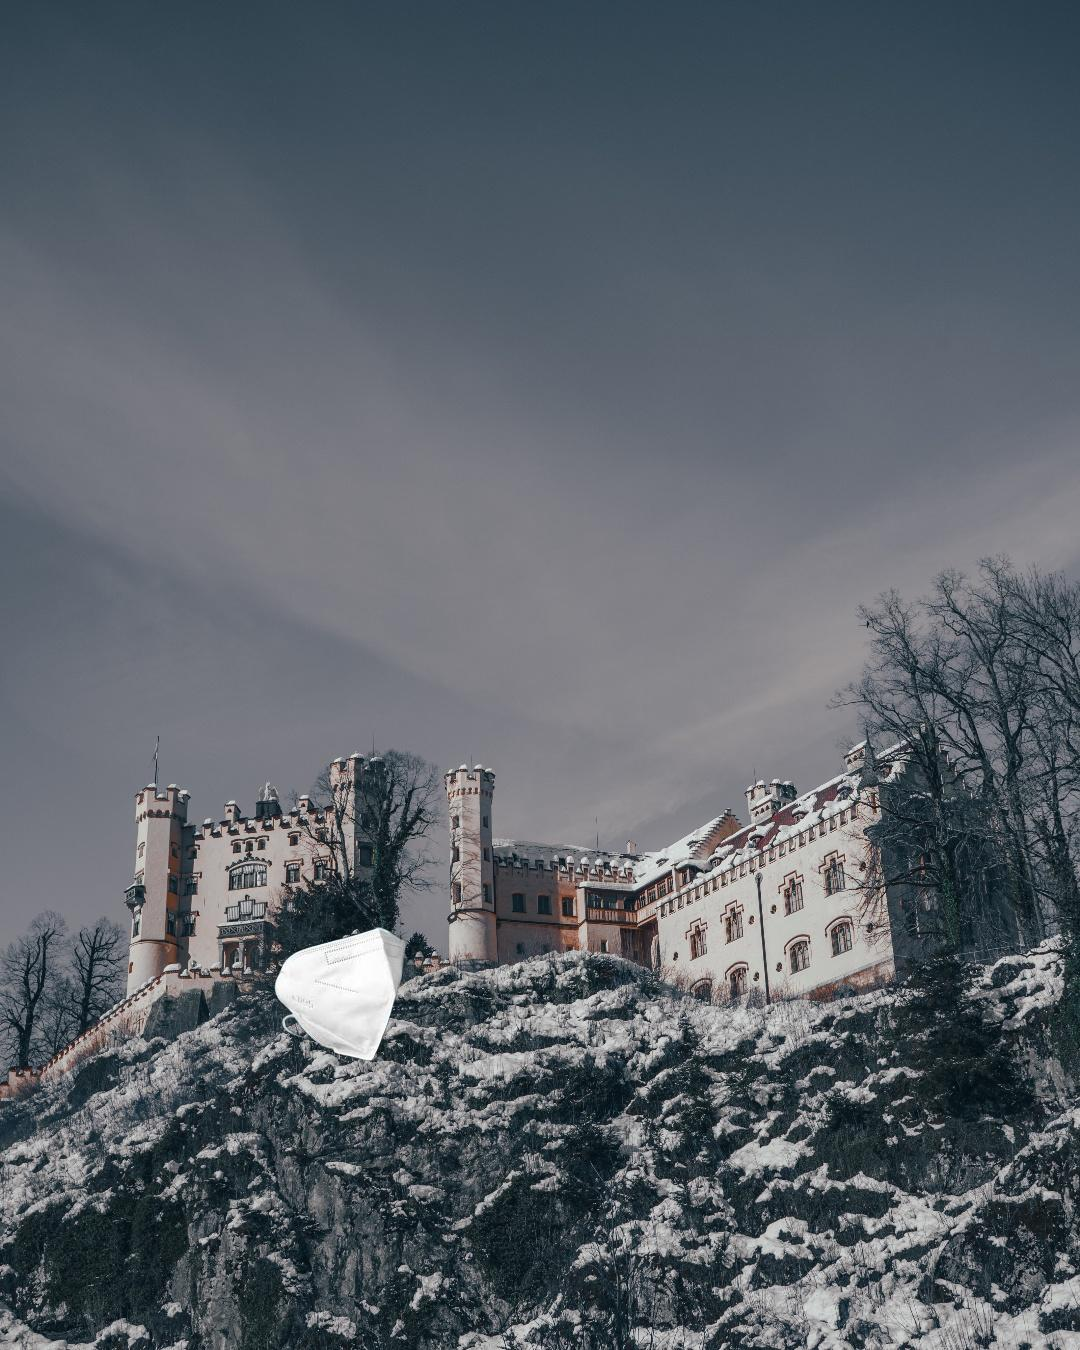trash: (264, 890, 409, 1063)
